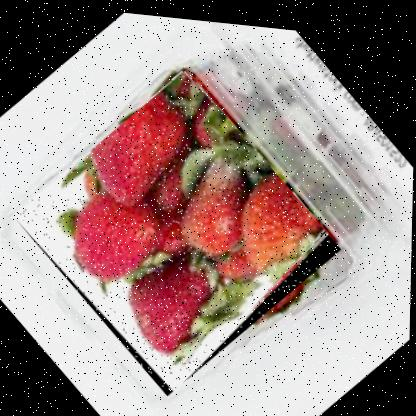strawberry_rotten: (10, 51, 346, 408)
